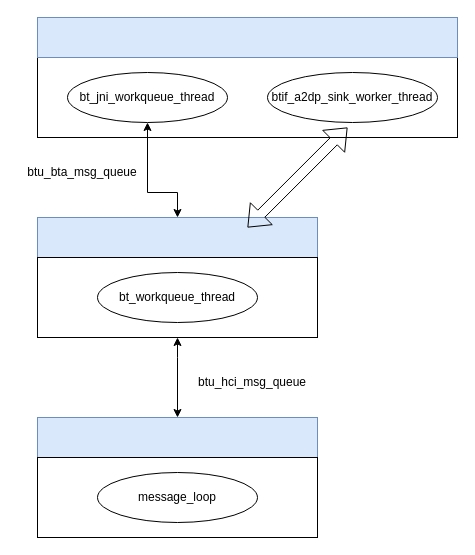
The diagram is 475 pixels wide and 555 high, and some of its shapes have lost their labels. The centre of each missing label's shape, as x and y in pixels:
"BT_IF Task" goes at (247,37).
"BTU Task" goes at (177,237).
"HCI Task" goes at (177,437).
